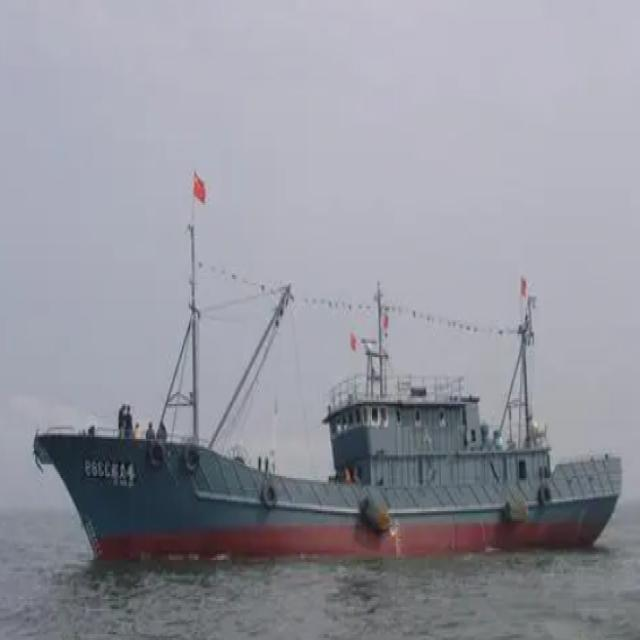navalvessels: (43, 168, 620, 564)
